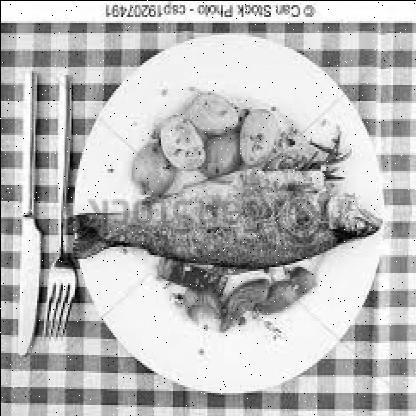fish: (72, 169, 382, 276)
